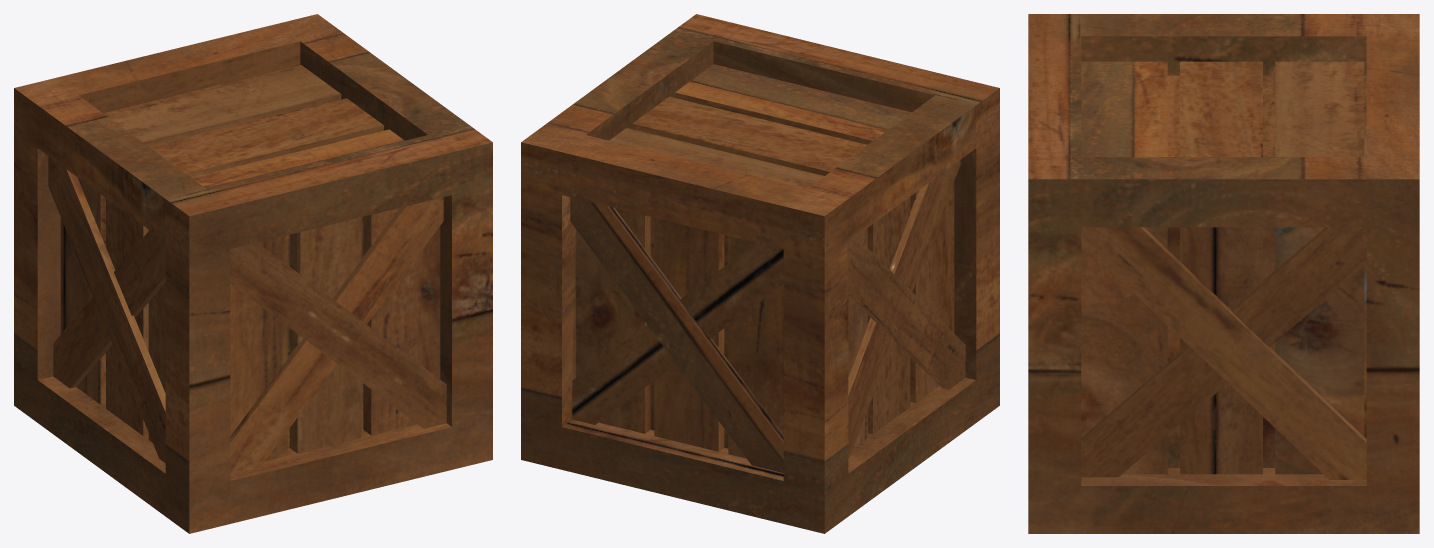
Rendered from Crate.fbx.
3 views of the same model, side by side, from view 1: azimuth 30°, elevation 25°; view 2: azimuth 150°, elevation 25°; view 3: azimuth 270°, elevation 25° (orthographic). The views are drawn at different scales.
Visible parts, largest first — view 1: Cube.002; view 2: Cube.002; view 3: Cube.002.
Boxes of the visible parts, x1=… form: Cube.002: x1=14, y1=14, x2=492, y2=533; Cube.002: x1=521, y1=14, x2=999, y2=533; Cube.002: x1=1028, y1=14, x2=1419, y2=533.
Size of the model in its own units: 200 by 200 by 200.
